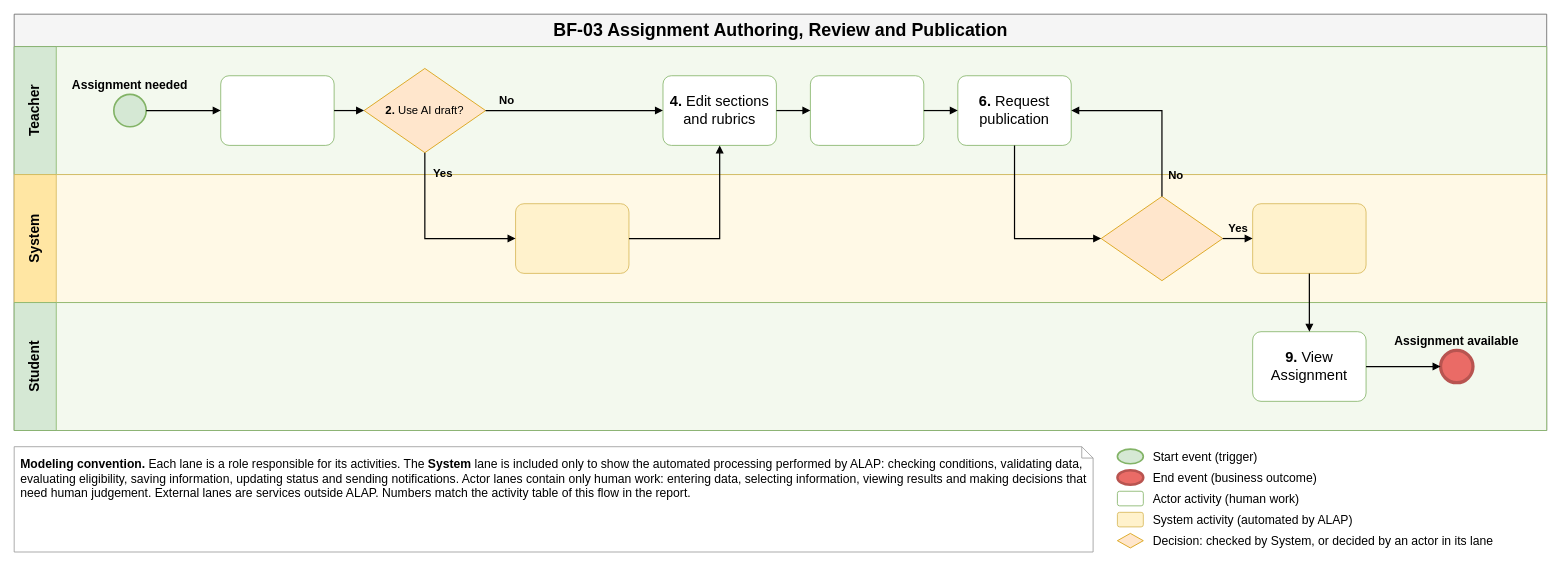
Some shapes in this 1561 by 566 pixel diagram are drawn without their labels. Each missing label, with the centre of its shape:
"1. Set mode and instructions" belongs at [277,110].
"3. Generate AI draft" belongs at [572,238].
"5. Set schedule and monitoring" belongs at [867,110].
"7. Content valid?" belongs at [1161,238].
"8. Publish, notify students" belongs at [1309,238].
